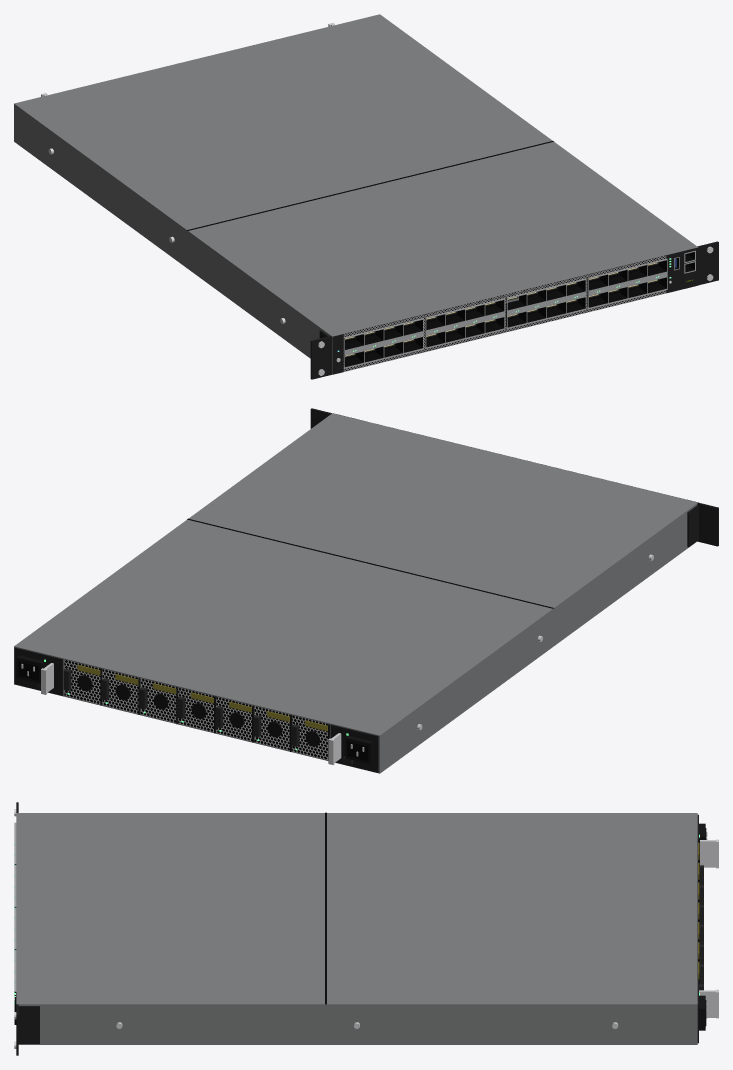
File: net_02_ib_quantum2_qm9700.glb
The picture shows the model from 3 angles, top to bottom: view 1: azimuth 30°, elevation 25°; view 2: azimuth 150°, elevation 25°; view 3: azimuth 270°, elevation 25°; orthographic projection. The views are drawn at different scales.
Parts seen in each view (by area): view 1: Chassis, Cage_Blocks, Front_Perf, Ears, Front_Panels; view 2: Chassis, Rear_Modules, Rear_Grilles, Ears; view 3: Chassis, Rear_Modules, Ears, Cage_Blocks.
Boxes of the visible parts, x1,y1,x2,y2 form: Chassis: [14, 14, 698, 374]; Cage_Blocks: [344, 258, 667, 368]; Front_Perf: [343, 255, 666, 371]; Ears: [310, 241, 718, 379]; Front_Panels: [332, 247, 698, 374]; Chassis: [14, 413, 697, 773]; Rear_Modules: [14, 647, 378, 772]; Rear_Grilles: [64, 660, 328, 760]; Ears: [310, 408, 718, 547]; Chassis: [16, 812, 697, 1044]; Rear_Modules: [697, 814, 718, 1043]; Ears: [14, 802, 39, 1055]; Cage_Blocks: [14, 822, 16, 1023].
Size of the model in its own units: 0.4874 by 0.0439 by 0.6826.
Materials: 18 (2 with a texture image).
